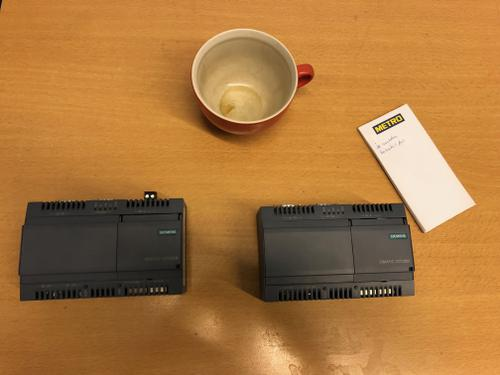device: (19, 192, 188, 302), (257, 204, 416, 303)
